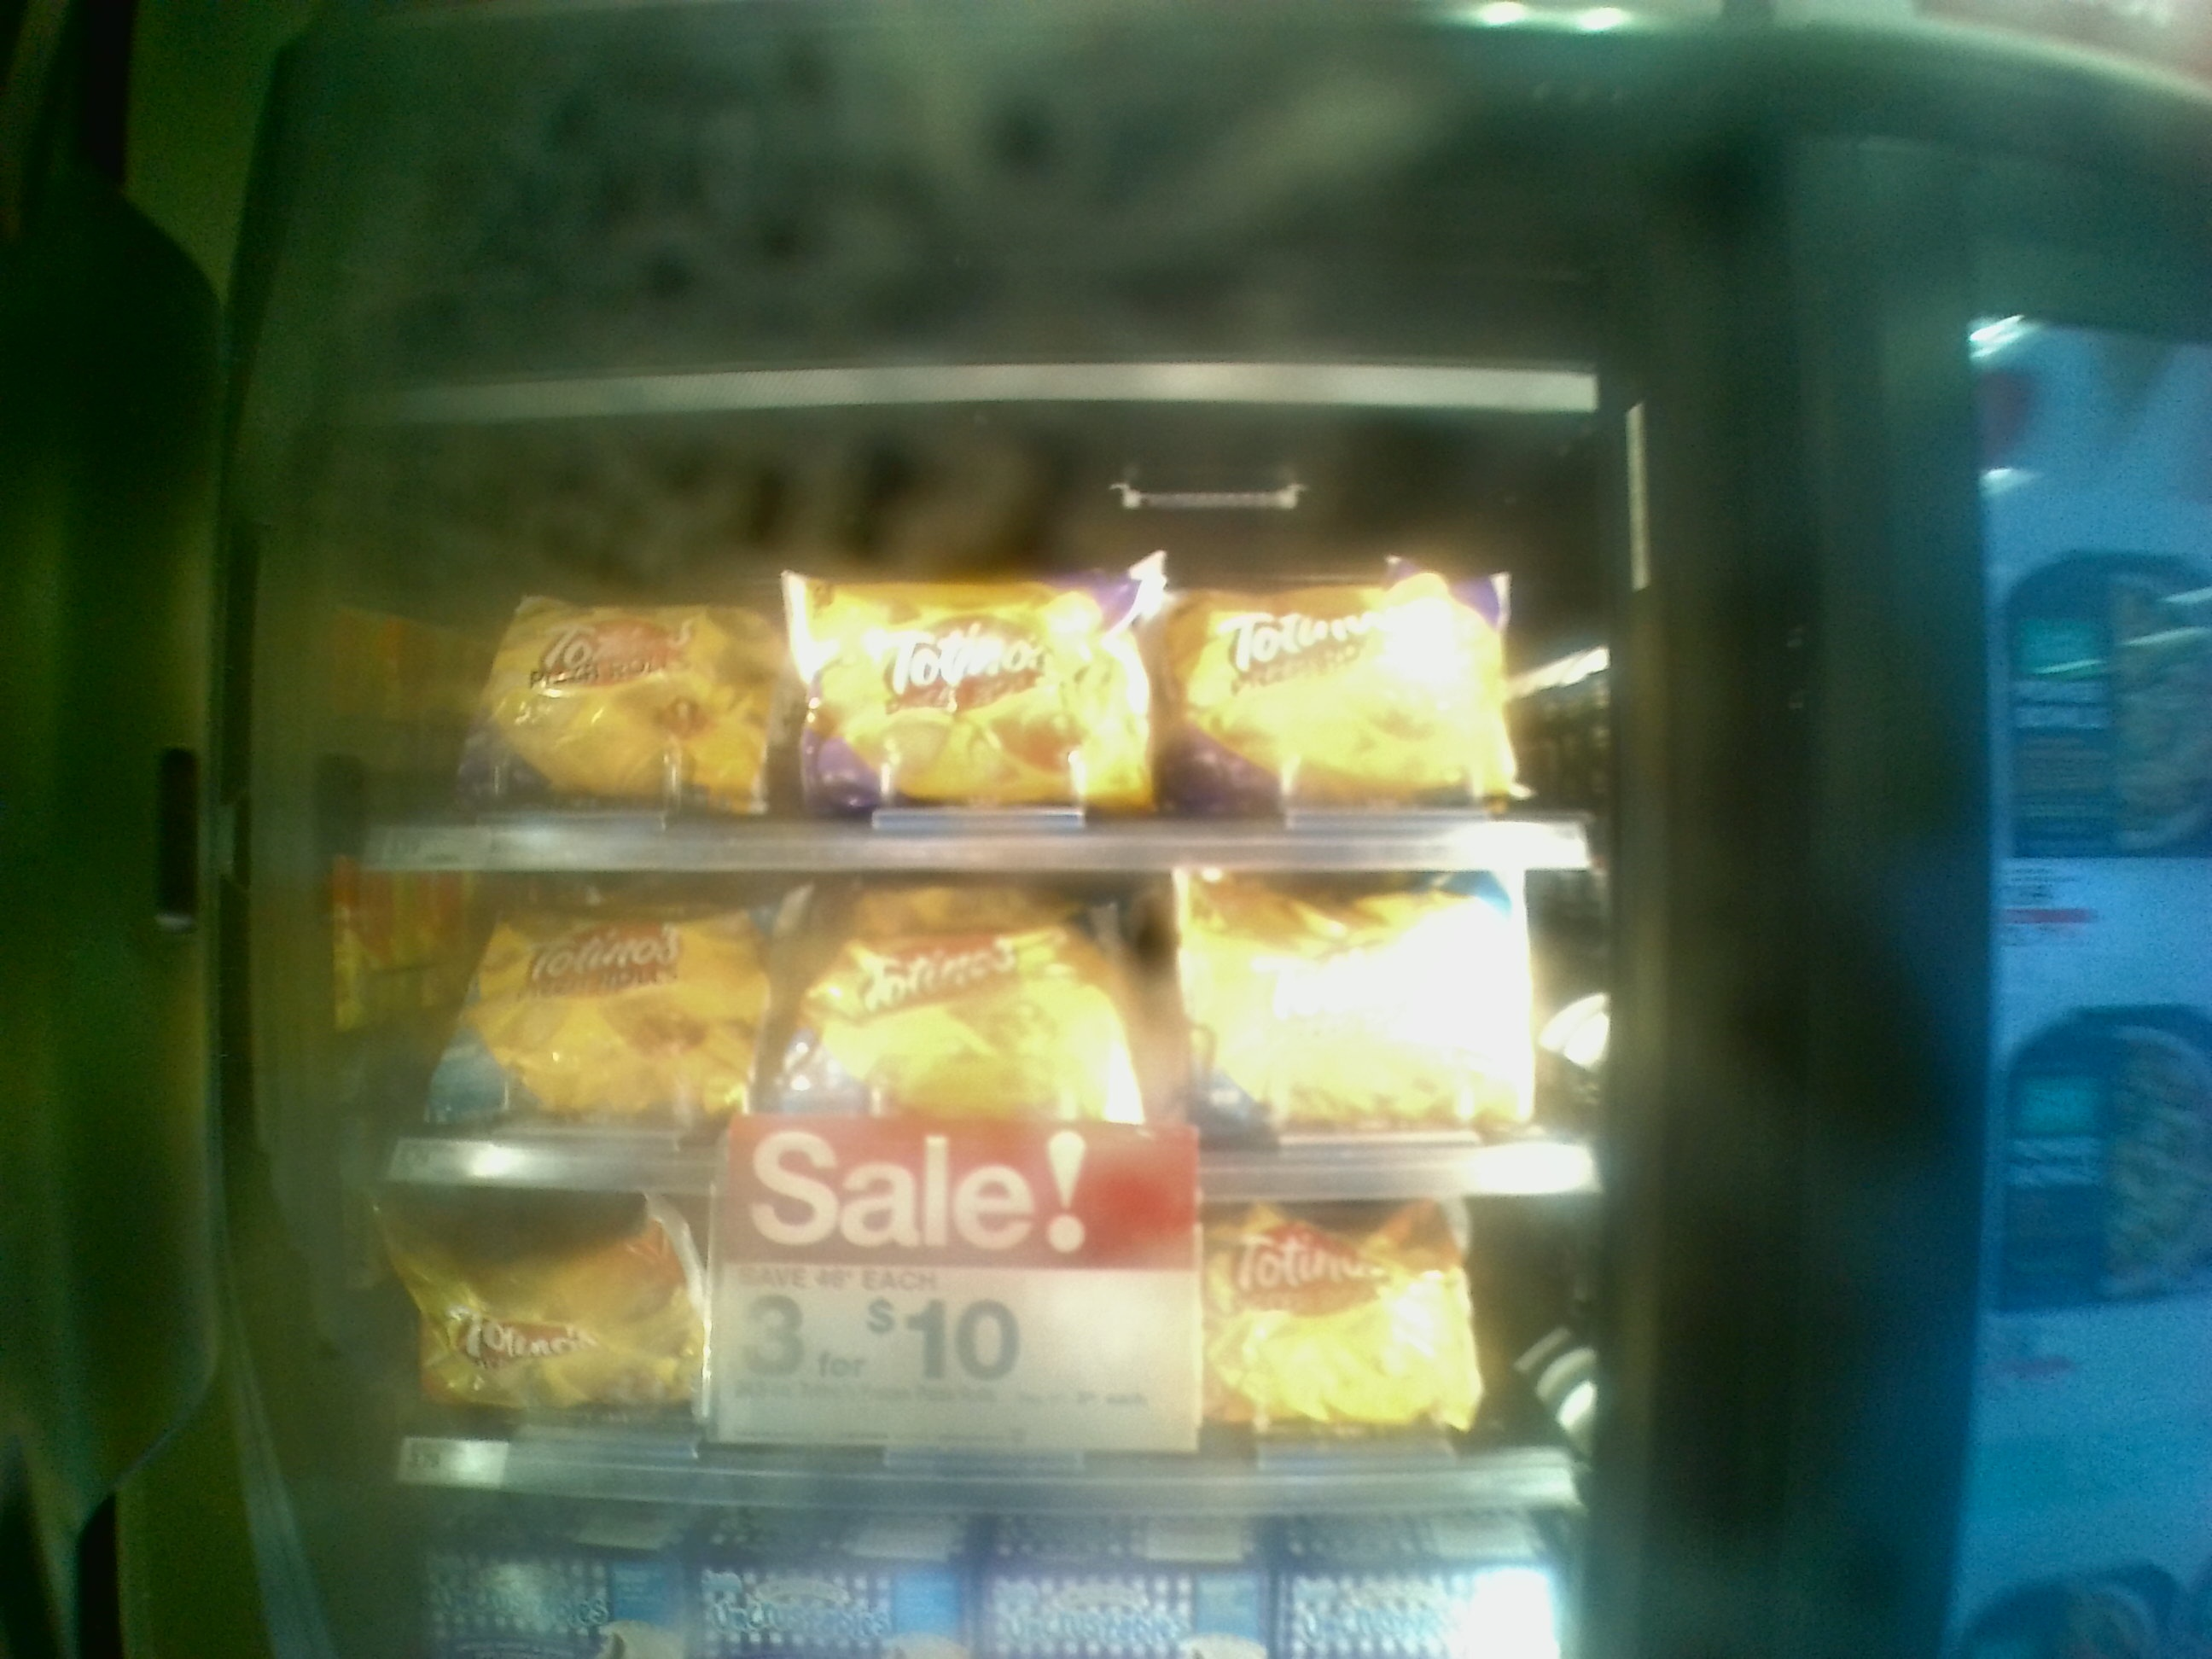shelf: (341, 481, 1599, 835), (364, 840, 1583, 1190), (380, 1161, 1566, 1506)
